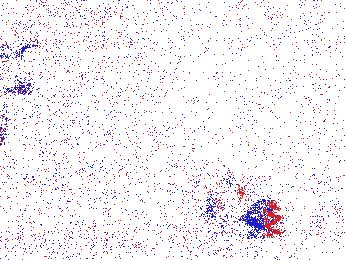flame jellyfish: (199, 178, 281, 231), (1, 49, 36, 146), (189, 161, 239, 211)
